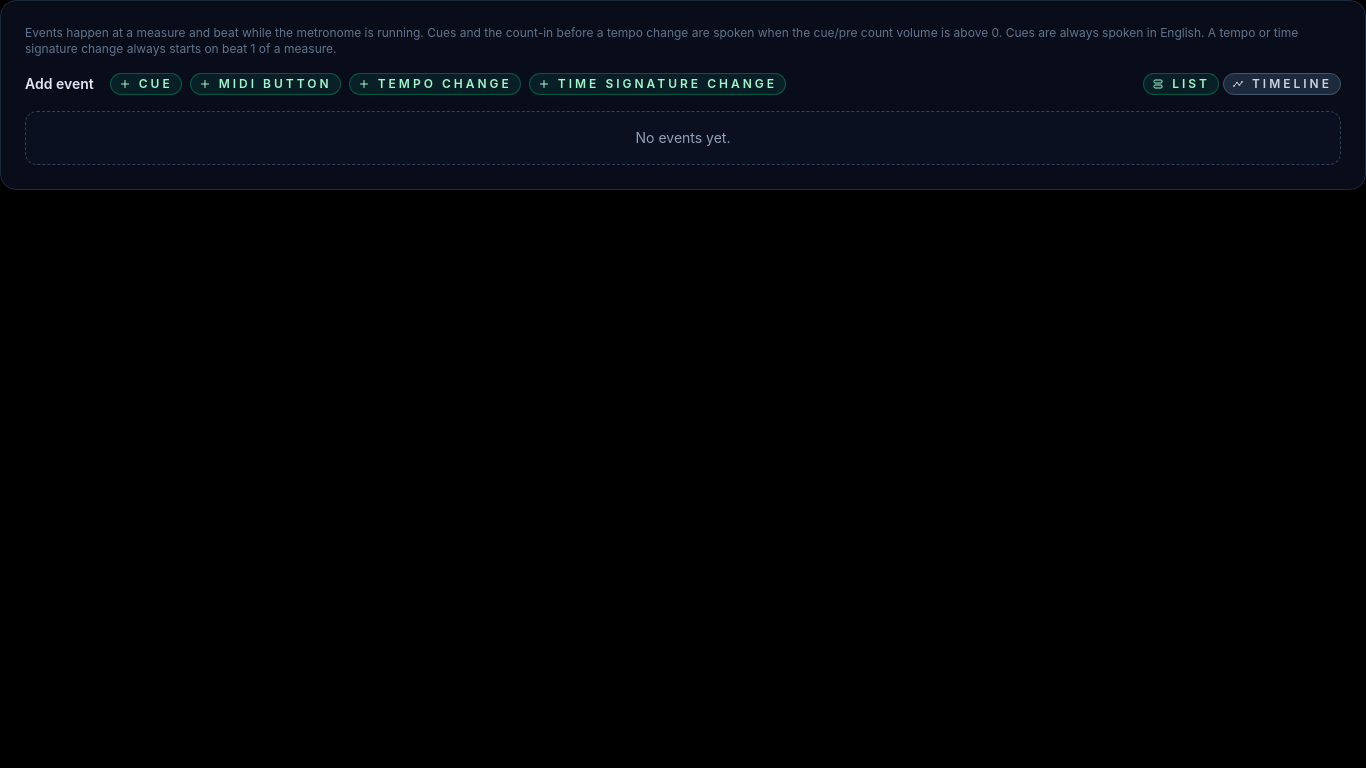
Test case: EventsTab › timeline view › does not offer changes on a beat other than 1 in the editor
Click the button "Timeline" at (1282, 84), box [1223, 73, 1341, 95]
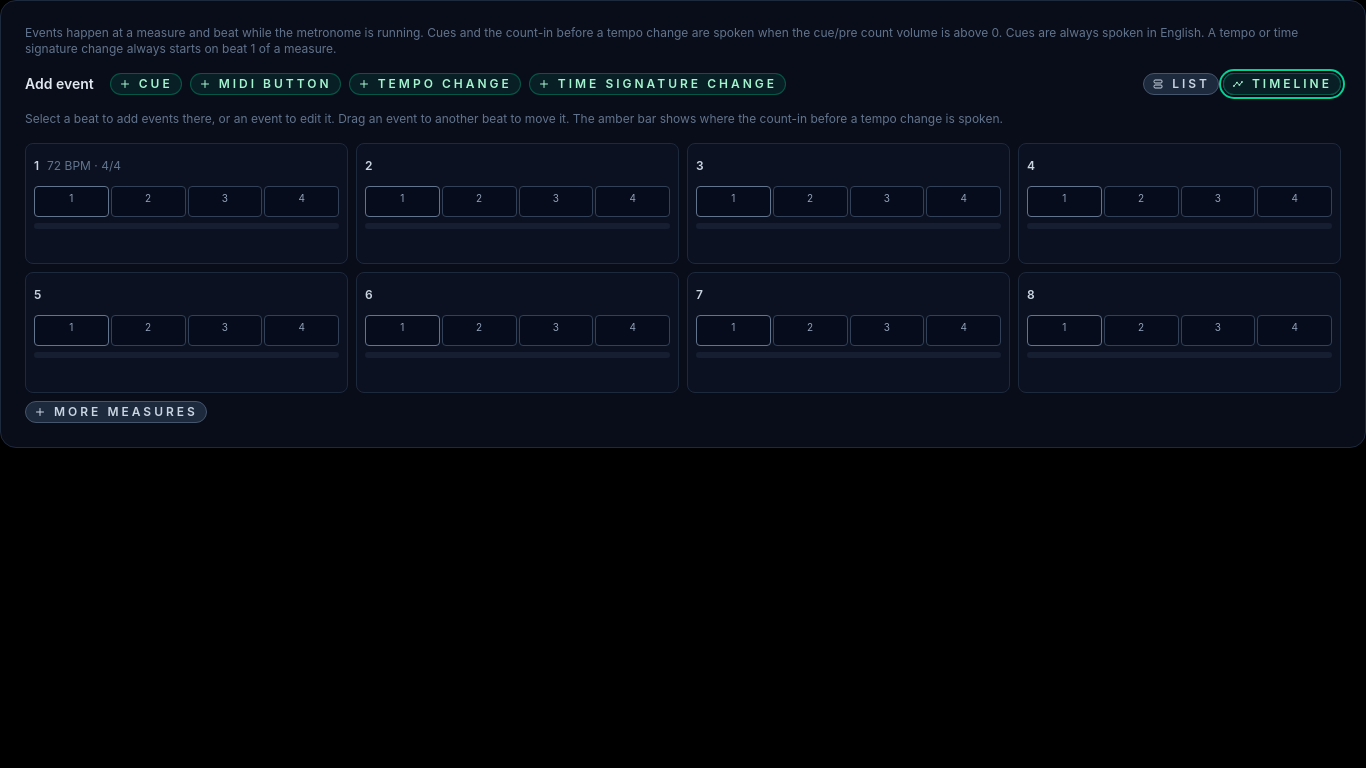
Click the button named "Select measure 2, beat 2" at (479, 202), box [442, 186, 517, 217]
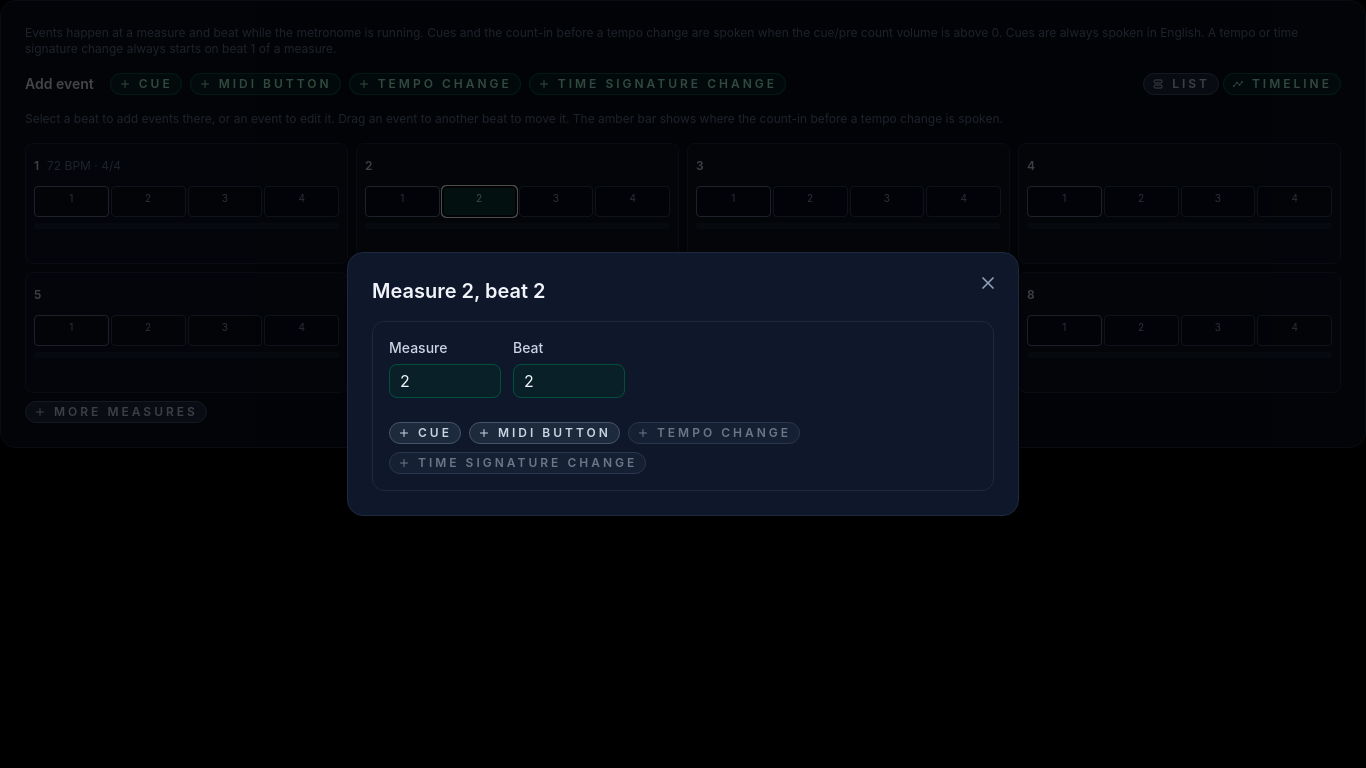
Now the button with aria-label "Add tempo change to measure 2, beat 2" is disabled, box [628, 422, 800, 444]
